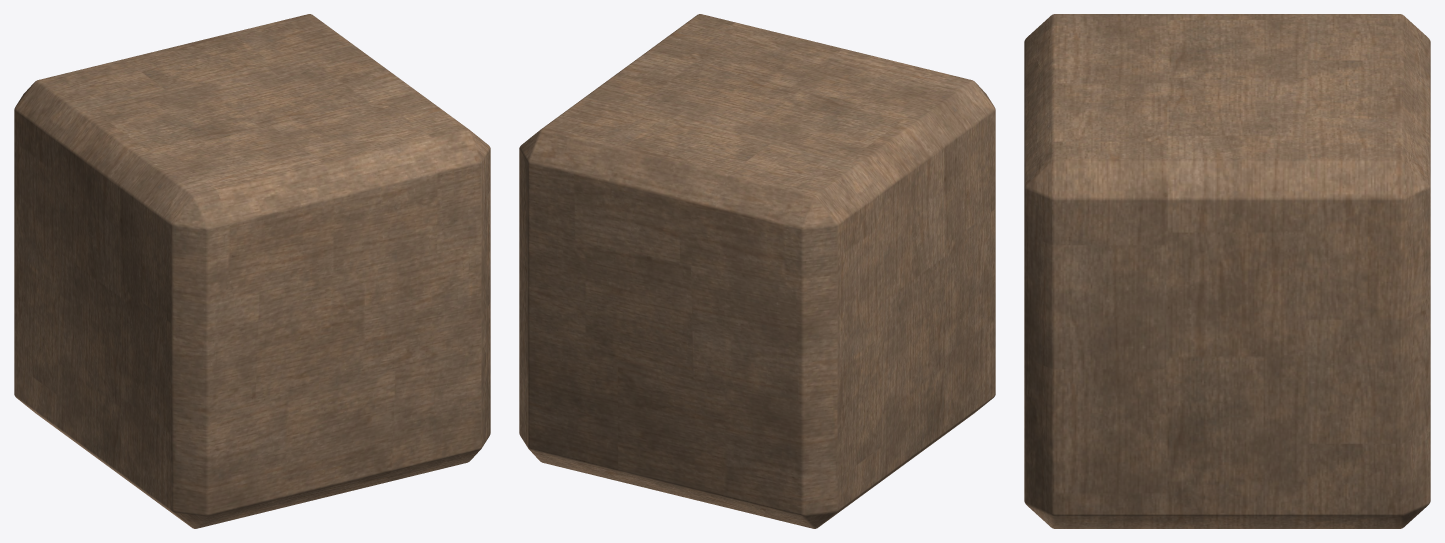
Rendered from block4.fbx.
3 views of the same model, side by side, from view 1: azimuth 30°, elevation 25°; view 2: azimuth 150°, elevation 25°; view 3: azimuth 270°, elevation 25° (orthographic). The views are drawn at different scales.
Visible parts, largest first — view 1: block4; view 2: block4; view 3: block4.
Part boxes in pixels (x1,y1,x2,y2): block4: (14,14,490,528); block4: (519,14,995,528); block4: (1024,14,1430,528).
Size of the model in its own units: 200 by 200 by 200.
